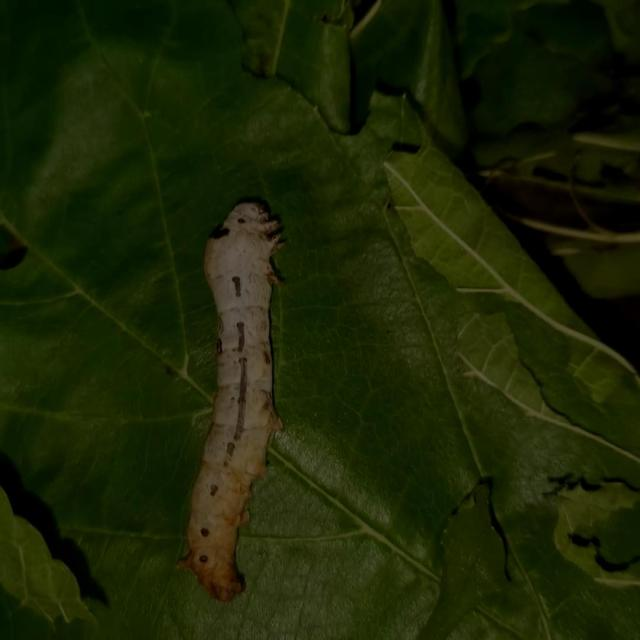Grasserie: (163, 170, 309, 620)
